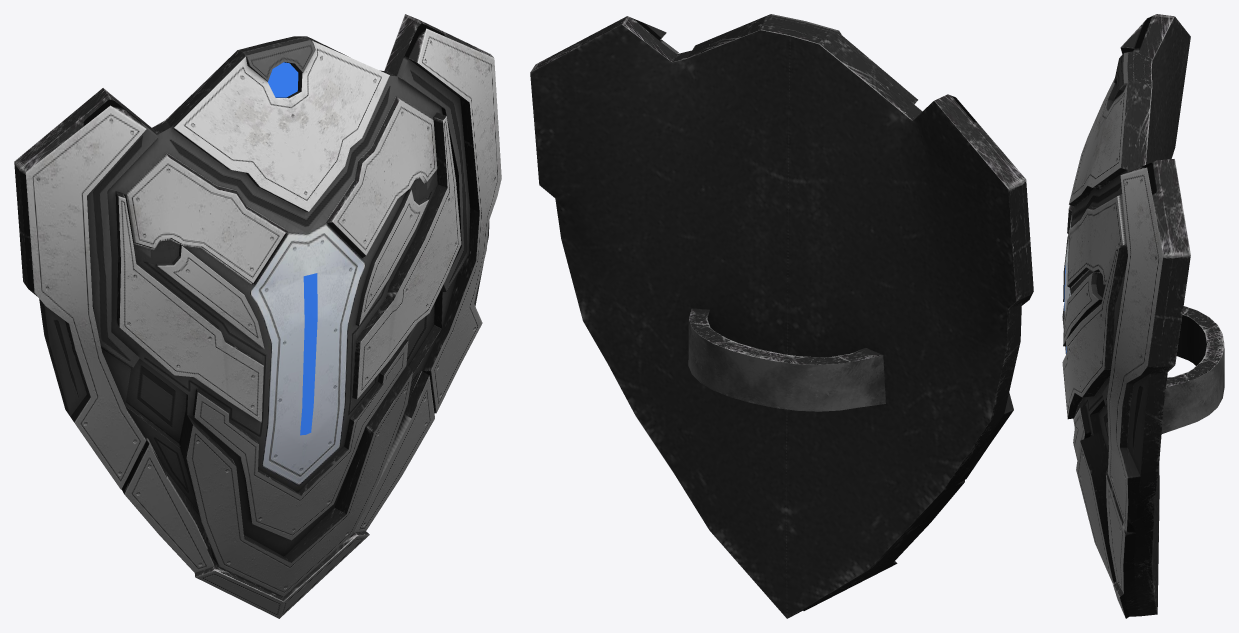
File: SciFiShield.glb
3 renders of one model, left to right at view 1: azimuth 30°, elevation 25°; view 2: azimuth 150°, elevation 25°; view 3: azimuth 270°, elevation 25°, orthographic. The views are drawn at different scales.
Parts seen in each view (by area): view 1: SciFiShield; view 2: SciFiShield; view 3: SciFiShield.
Boxes of the visible parts, left/top/right/bottom form: SciFiShield: left=14, top=14, right=501, bottom=618; SciFiShield: left=530, top=14, right=1033, bottom=618; SciFiShield: left=1062, top=14, right=1224, bottom=618.
Size of what is drawn, in the model's own units: 0.6322 by 0.7335 by 0.1948.
Materials: 2 (2 with a texture image).
